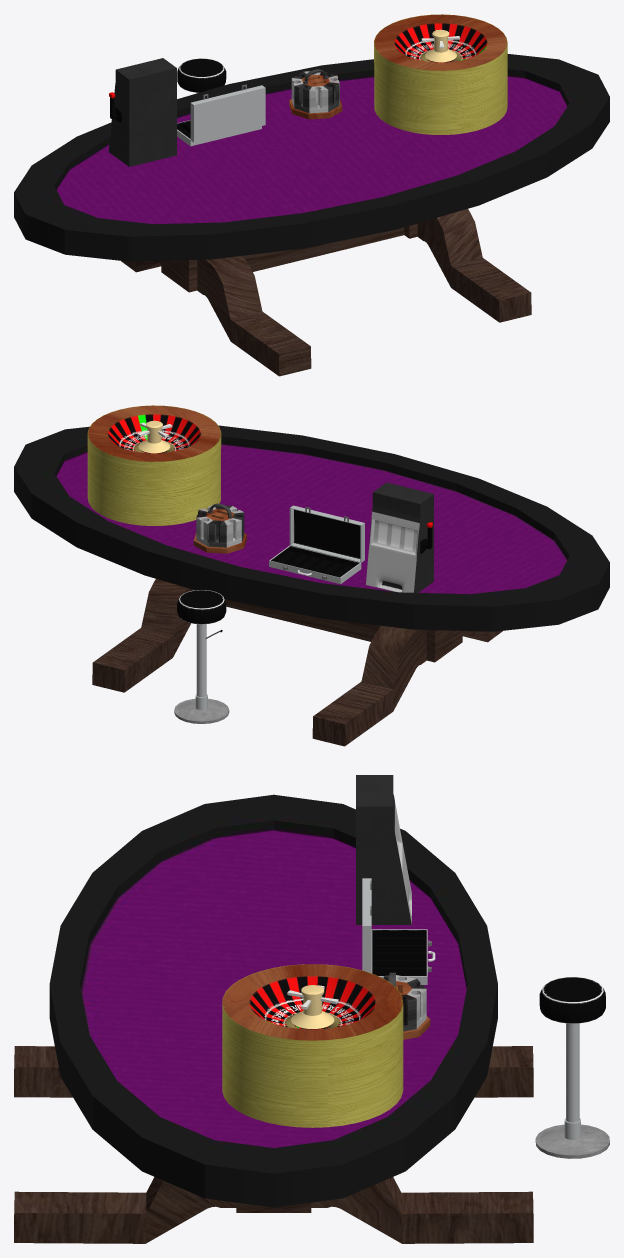
3 views of the same model, one above another, from view 1: azimuth 30°, elevation 25°; view 2: azimuth 150°, elevation 25°; view 3: azimuth 270°, elevation 25° (orthographic). The views are drawn at different scales.
Visible parts, largest first — view 1: Poker_Table, Roulette, Slot_Machine, Case_Top, Rotating_Chip_Holder, Stool, Case_Bottom; view 2: Poker_Table, Roulette, Slot_Machine, Stool, Case_Top, Rotating_Chip_Holder, Case_Bottom; view 3: Poker_Table, Roulette, Slot_Machine, Stool, Case_Bottom, Rotating_Chip_Holder, Case_Top.
Boxes of the visible parts, x1,y1,x2,y2 form: Poker_Table: (14, 54, 609, 376); Roulette: (374, 14, 507, 134); Slot_Machine: (108, 58, 176, 166); Case_Top: (190, 85, 265, 142); Rotating_Chip_Holder: (289, 69, 342, 119); Stool: (177, 58, 226, 93); Case_Bottom: (177, 120, 261, 146); Poker_Table: (14, 425, 609, 746); Roulette: (87, 405, 221, 525); Slot_Machine: (365, 482, 433, 592); Stool: (174, 590, 229, 723); Case_Top: (289, 505, 364, 562); Rotating_Chip_Holder: (193, 503, 246, 553); Case_Bottom: (269, 545, 361, 584); Poker_Table: (14, 794, 533, 1243); Roulette: (222, 964, 403, 1127); Slot_Machine: (356, 775, 411, 924); Stool: (535, 977, 609, 1158); Case_Bottom: (371, 929, 427, 984); Rotating_Chip_Holder: (380, 972, 430, 1039); Case_Top: (362, 878, 371, 973).
Bounding box in the file's own units: 24 × 8.45 × 15.95.
6 materials, 6 textured.
